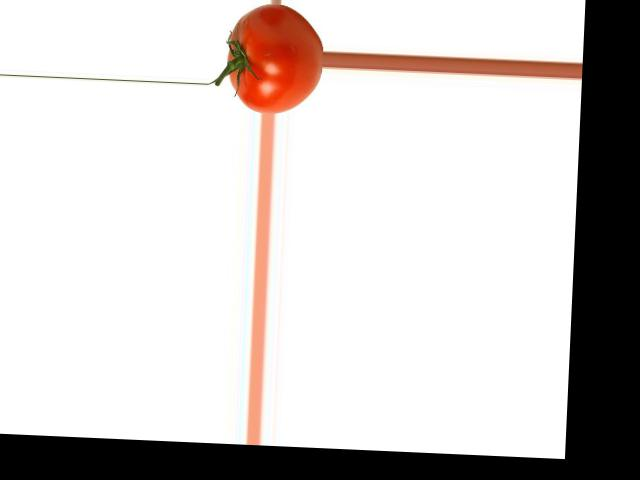tomato: (224, 1, 324, 115)
